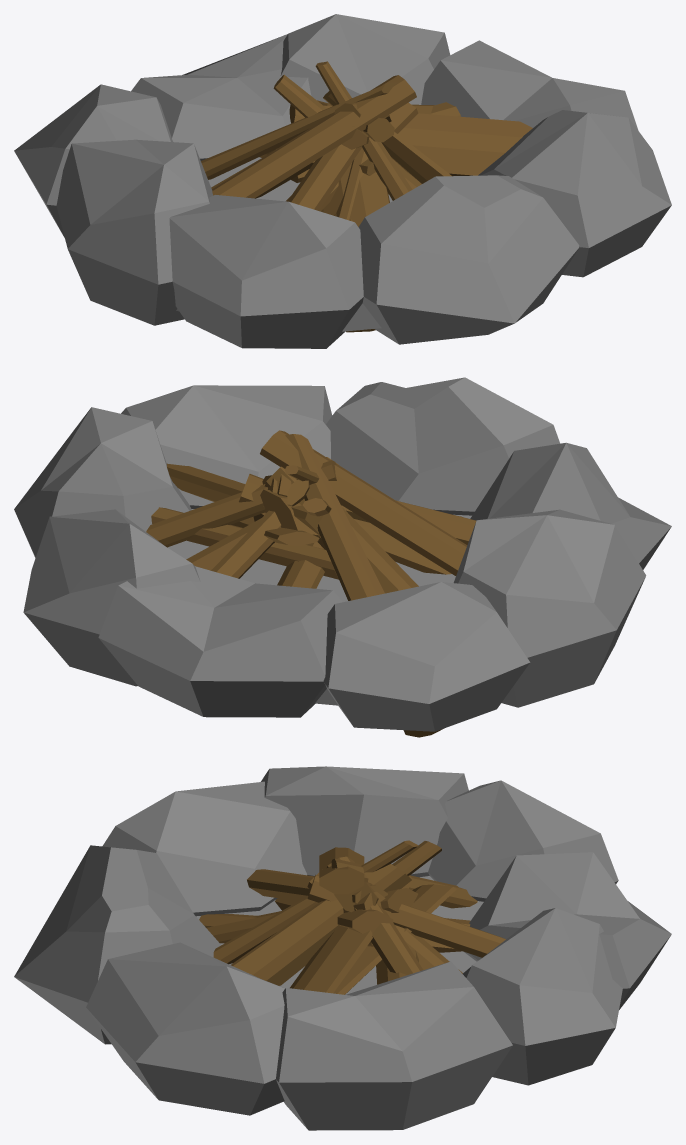
Rendered from Campfire.fbx.
3 renders of one model, top to bottom at view 1: azimuth 30°, elevation 25°; view 2: azimuth 150°, elevation 25°; view 3: azimuth 270°, elevation 25°, orthographic. The views are drawn at different scales.
Visible parts, largest first — view 1: Campfire_Stones, Campfire_Wood, AshGround; view 2: Campfire_Stones, Campfire_Wood, AshGround; view 3: Campfire_Stones, Campfire_Wood, AshGround.
Part boxes in pixels (x1,y1,x2,y2): Campfire_Stones: (14,14,671,348); Campfire_Wood: (201,61,532,332); AshGround: (176,157,392,331); Campfire_Stones: (14,377,671,731); Campfire_Wood: (146,430,476,737); AshGround: (167,509,471,705); Campfire_Stones: (14,766,671,1130); Campfire_Wood: (199,840,505,994); AshGround: (196,876,483,994).
Bounding box in the file's own units: 75.29 × 24.08 × 75.15.
